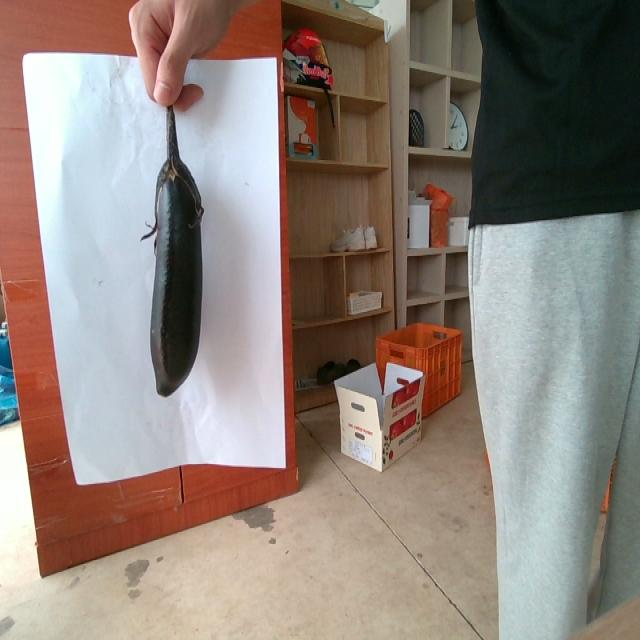Egg plant: (141, 107, 203, 396)
